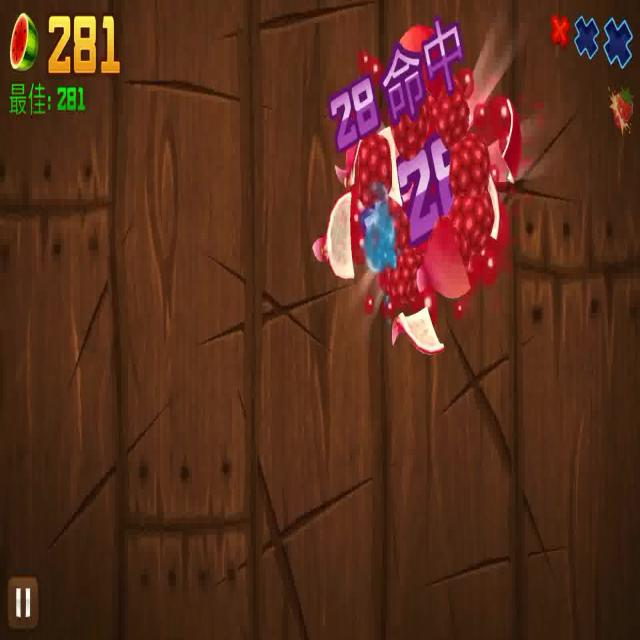fruit: (340, 56, 521, 356)
